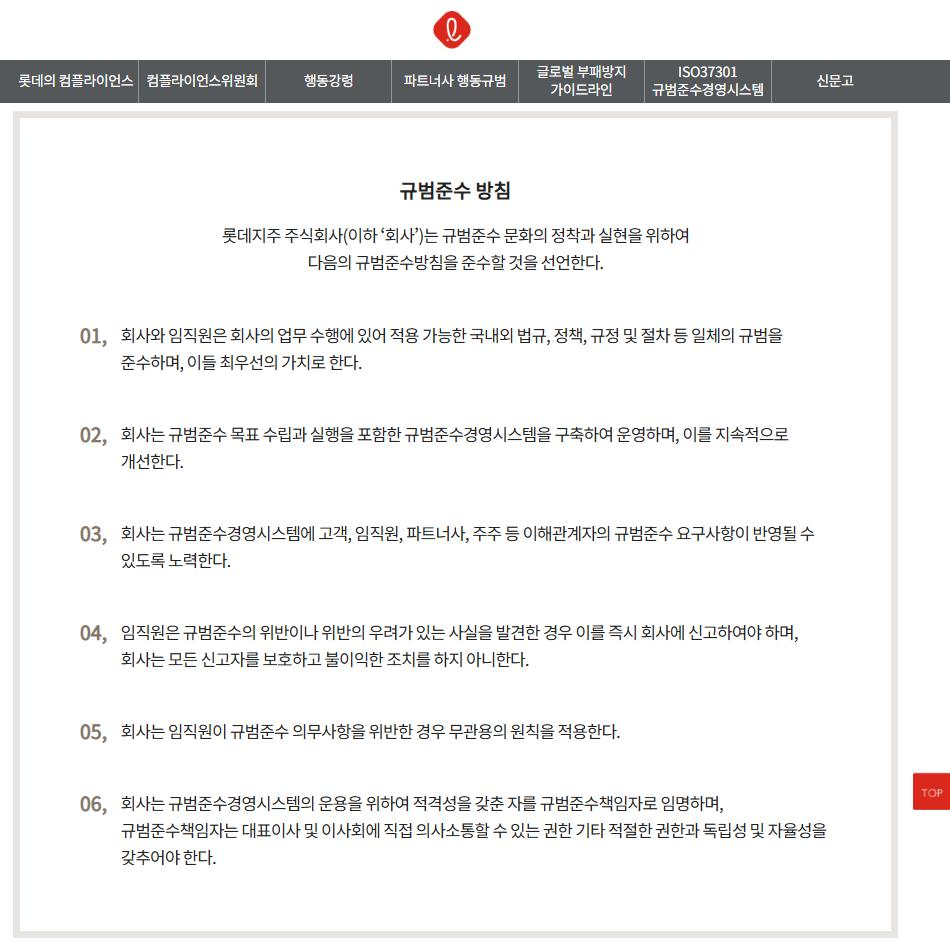button: (644, 60, 773, 100), (143, 59, 262, 98), (7, 66, 135, 102), (274, 60, 383, 102), (396, 59, 518, 95), (526, 59, 638, 98), (787, 67, 897, 99), (909, 759, 950, 818)
